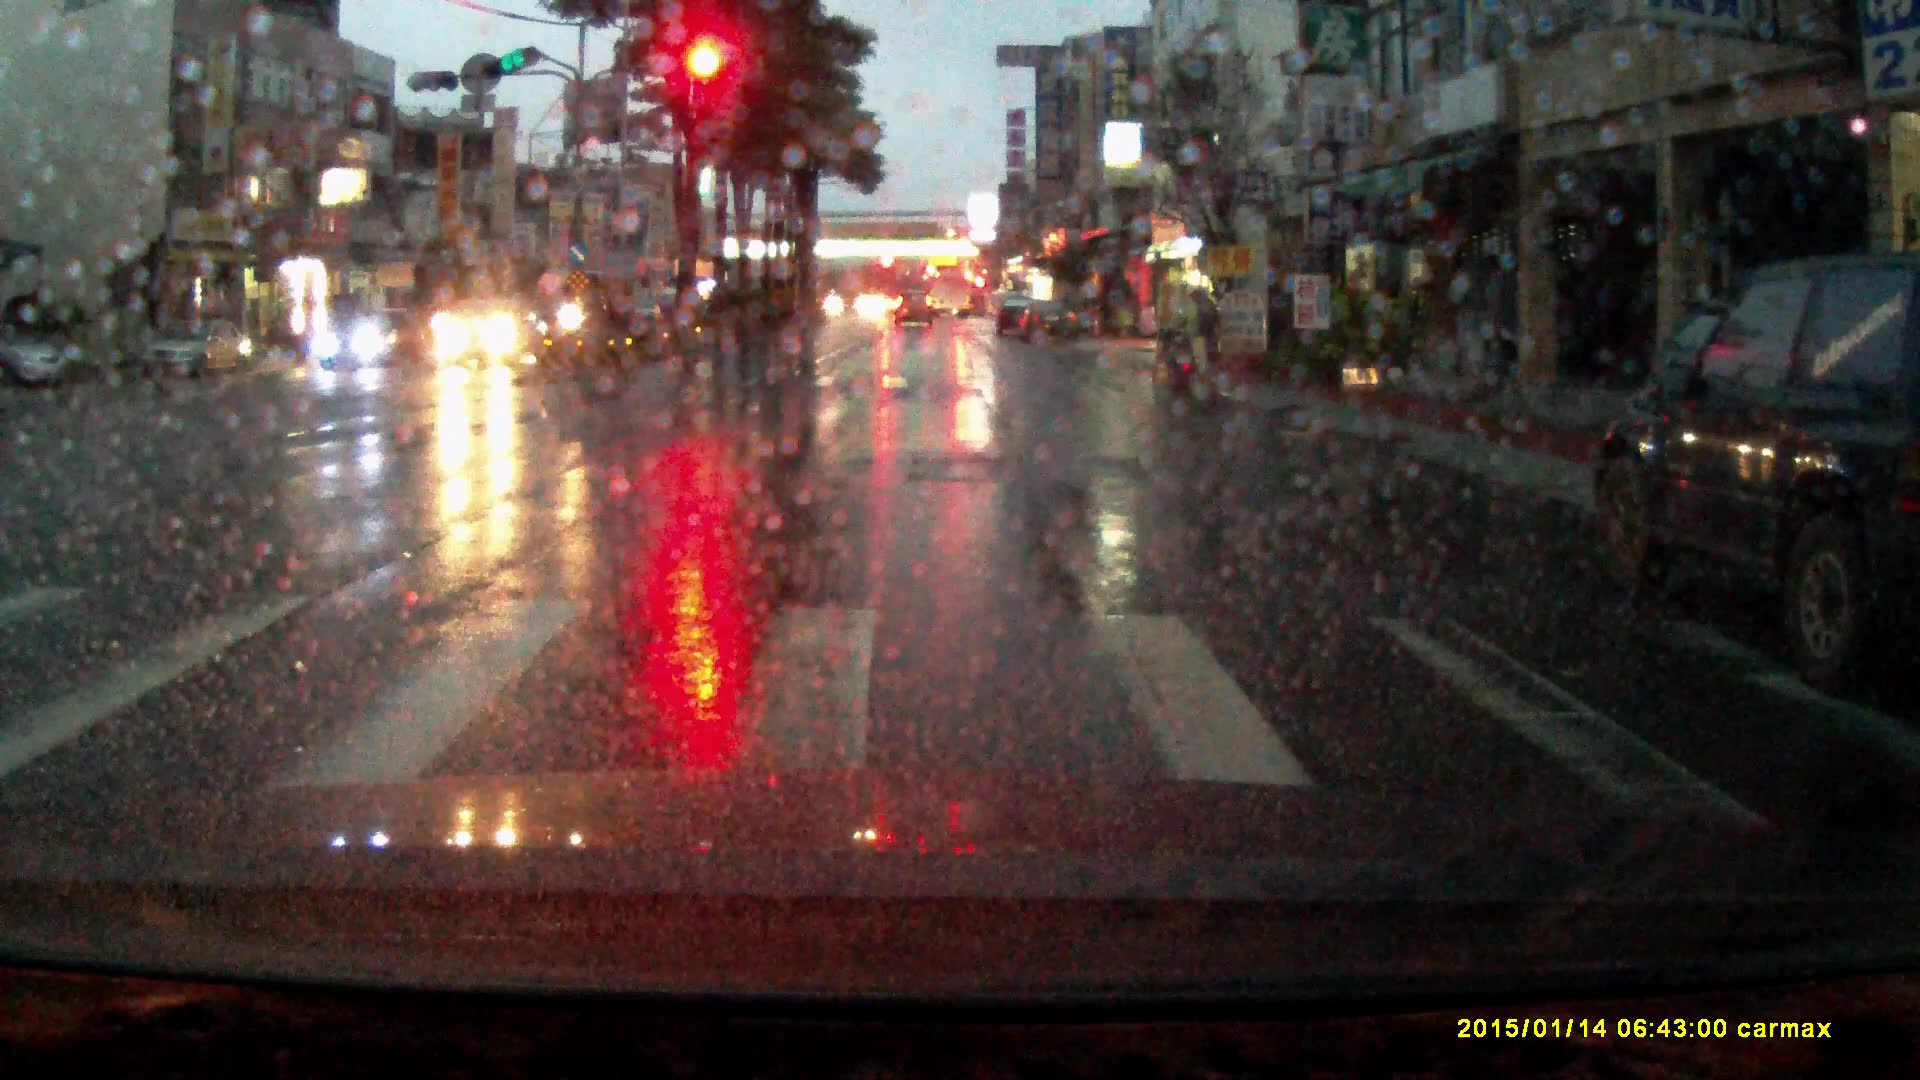vehicle: (1582, 248, 1920, 683), (433, 298, 546, 371), (316, 303, 430, 373), (142, 314, 253, 380), (531, 268, 612, 342), (1, 331, 69, 389), (1017, 301, 1079, 345), (930, 264, 972, 320), (895, 290, 938, 330), (996, 295, 1030, 338), (855, 295, 887, 319)
